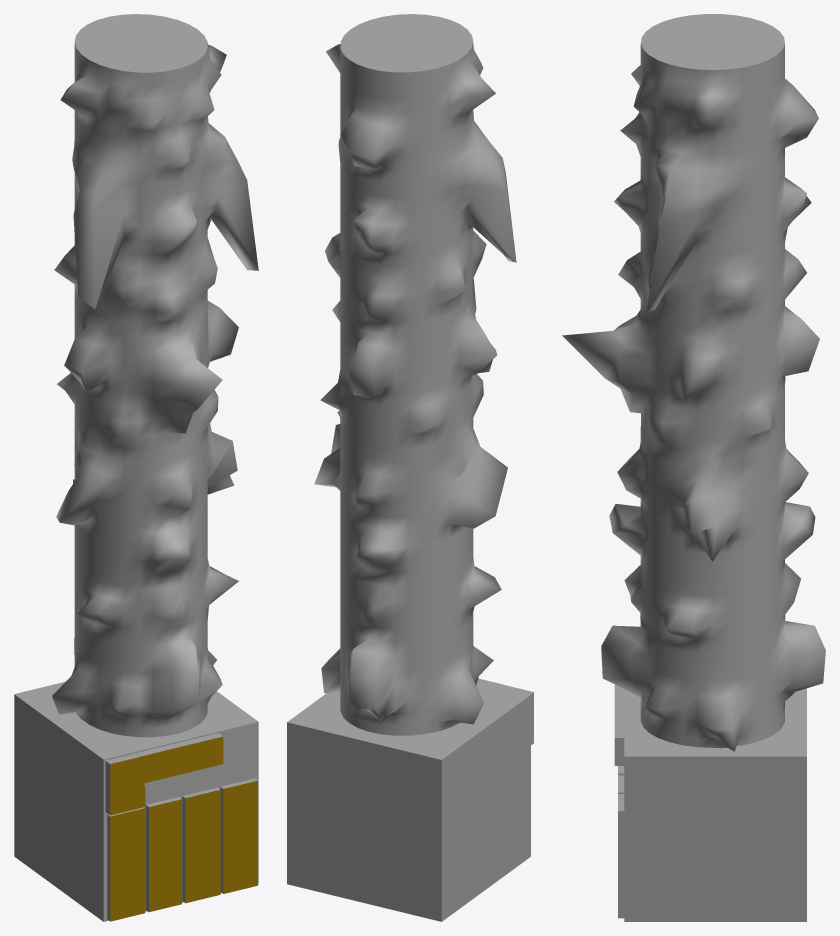
Rendered from bossHand.fbx.
The picture shows the model from 3 angles, left to right: view 1: azimuth 30°, elevation 25°; view 2: azimuth 150°, elevation 25°; view 3: azimuth 270°, elevation 25°; orthographic projection. The views are drawn at different scales.
Visible parts, largest first — view 1: pCylinder2; view 2: pCylinder2; view 3: pCylinder2.
Boxes of the visible parts, x1,y1,x2,y2 form: pCylinder2: (14, 14, 258, 921); pCylinder2: (287, 14, 533, 921); pCylinder2: (562, 14, 825, 921).
Size of the model in its own units: 5.34 by 23.54 by 6.68.
